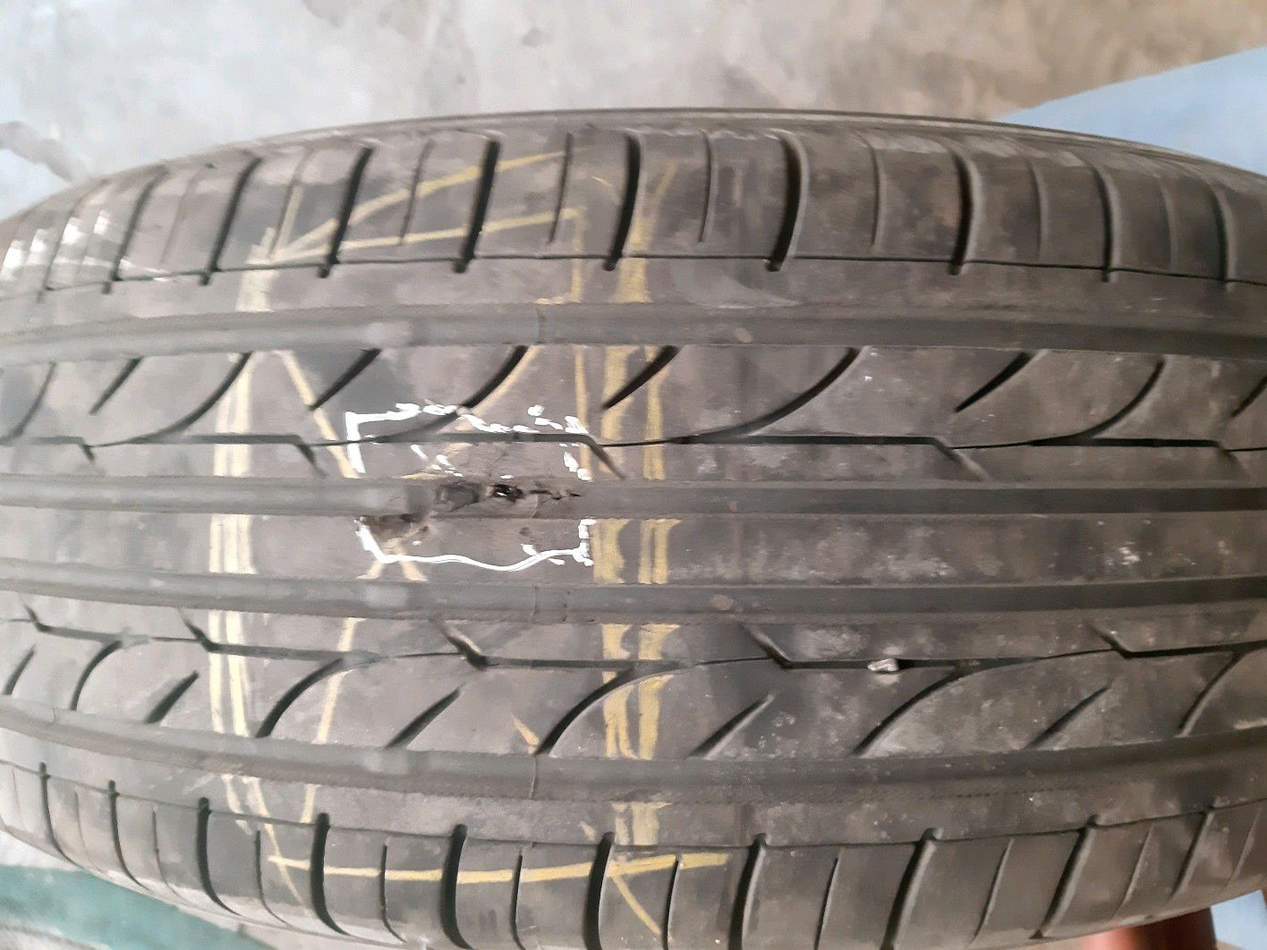tr: (352, 469, 591, 554)
